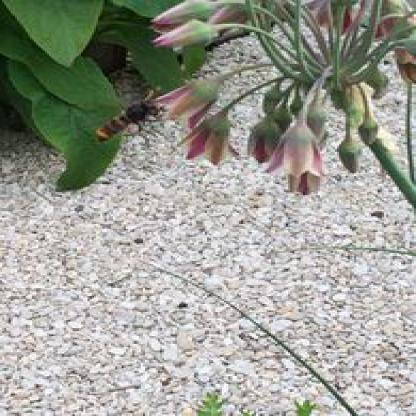Asian Hornet: (87, 96, 175, 146)
